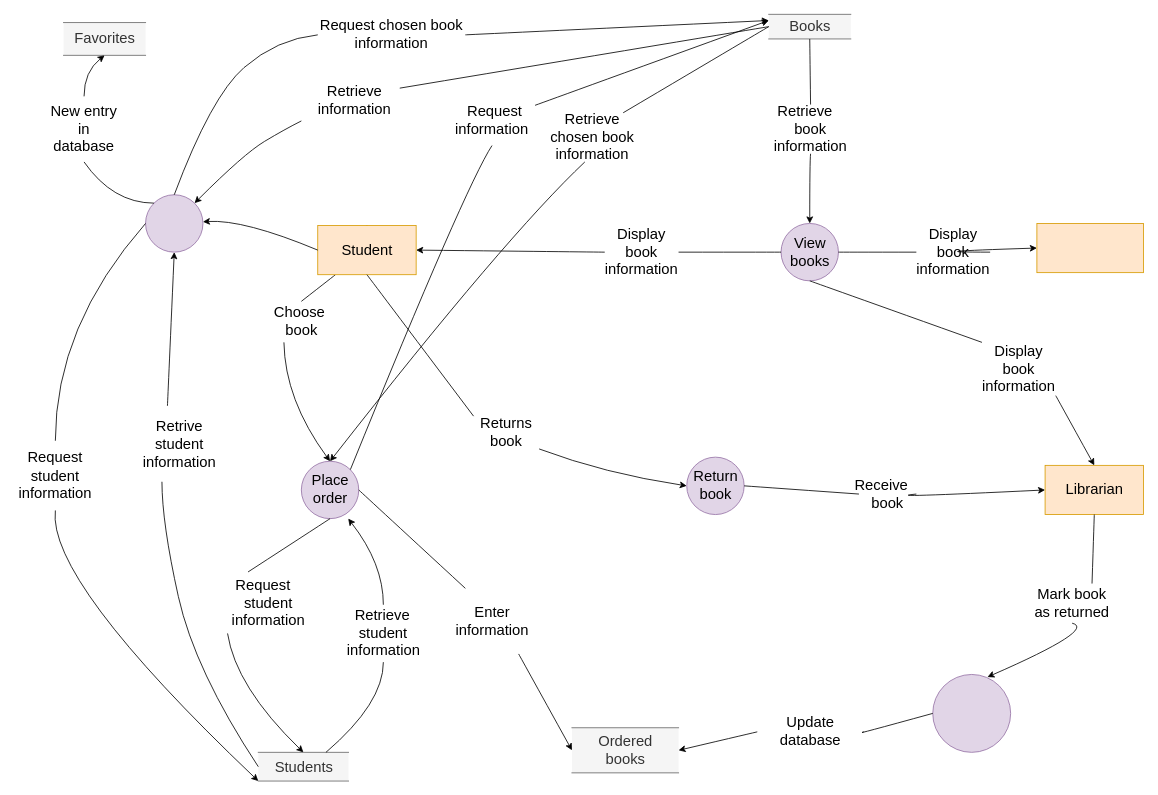
This 1158x795 diagram has some shape labels left out. The centre of each missing label's shape, as x and y in pixels:
"Administrator" belongs at (1089,248).
"Confirm book return" belongs at (971,713).
"Save book" belongs at (174,223).
